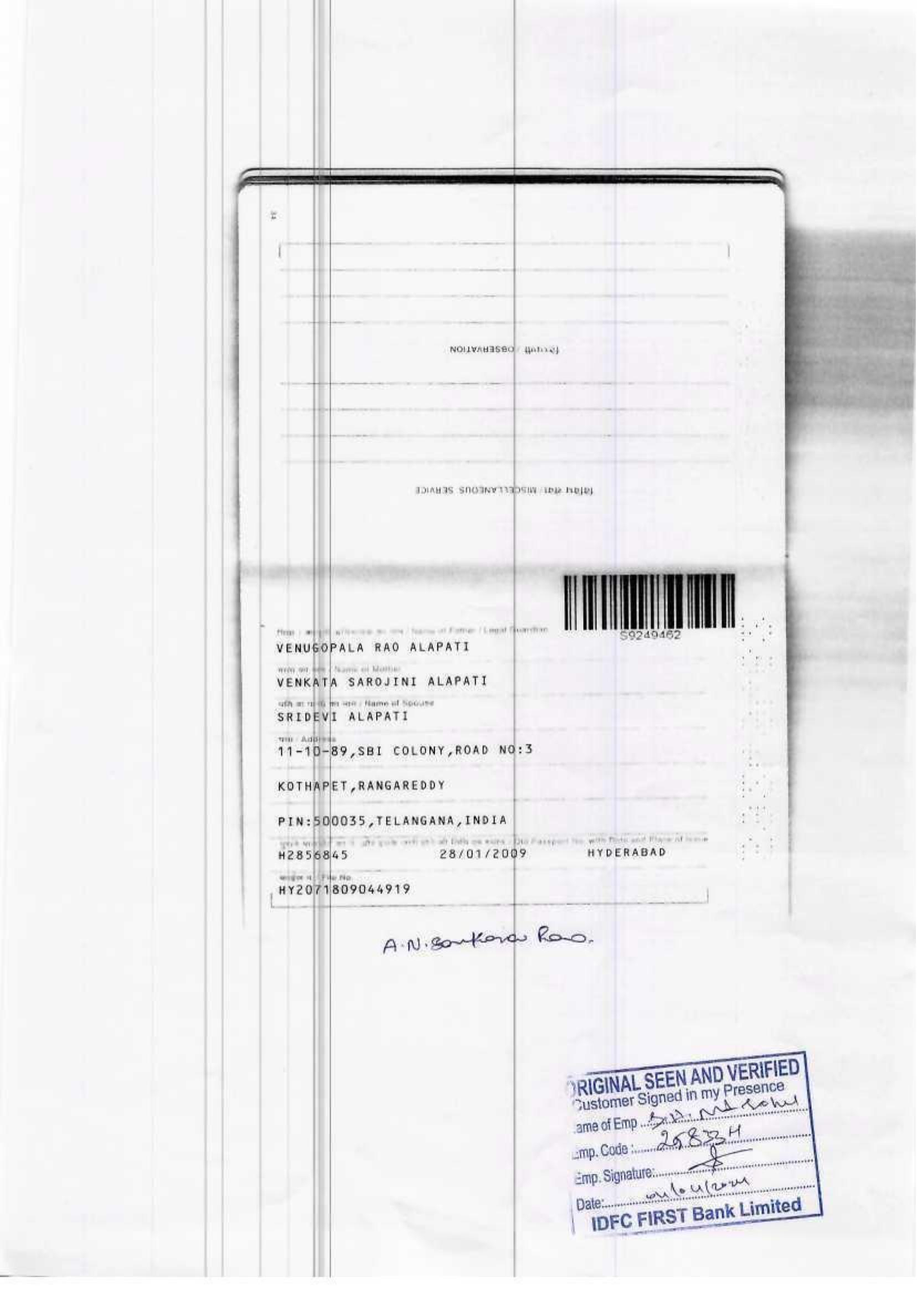File_no: (273, 878, 426, 904)
address: (261, 730, 550, 838)
father_name: (260, 633, 491, 665)
mother_name: (273, 673, 493, 694)
old_passport_details: (271, 845, 686, 865)
passport_no: (611, 624, 689, 649)
spouse_name: (273, 707, 417, 730)
